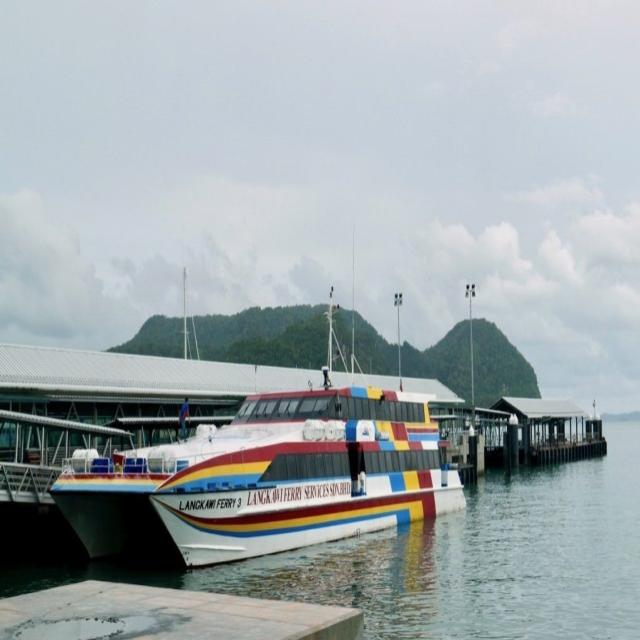houseboat: (59, 303, 473, 573)
